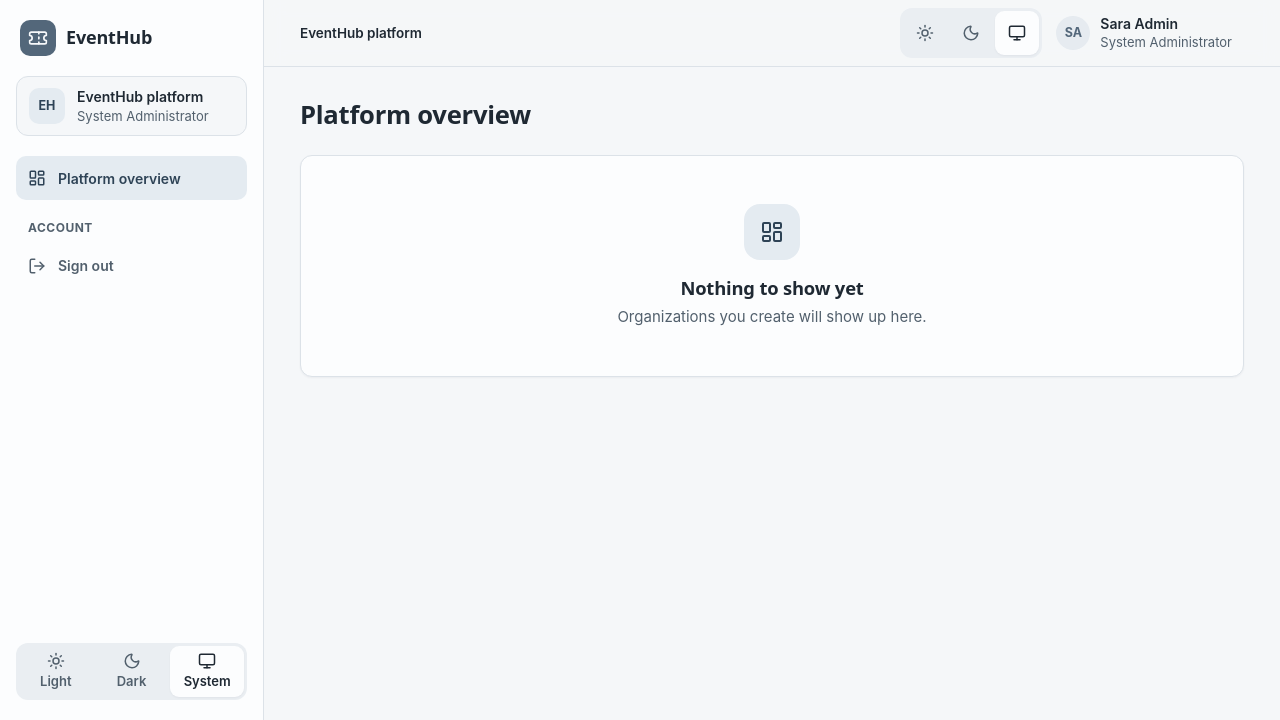
it: router › sign in and sign out › stays put with an error toast on a server error
Click the button "Sign out". click: (132,266)
box: [16,244,247,288]
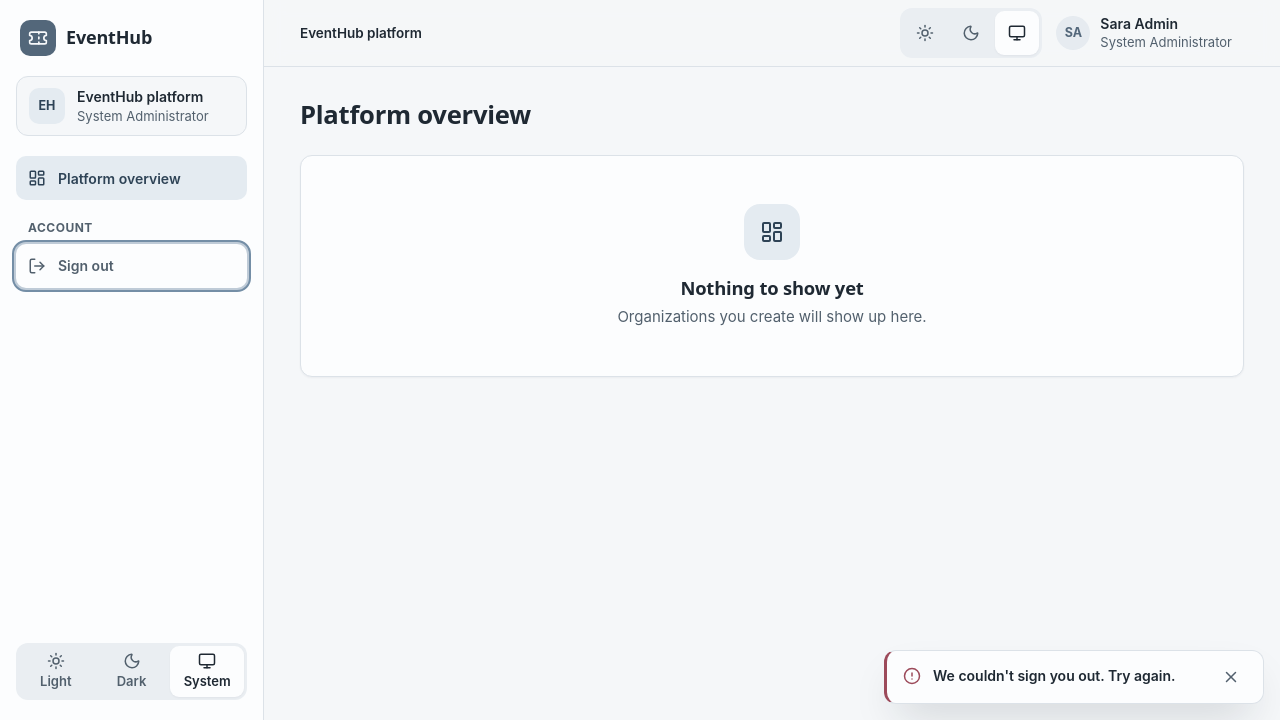
Check: the text "We couldn't sign you out. Try again." is shown, box [933,665,1197,686]
